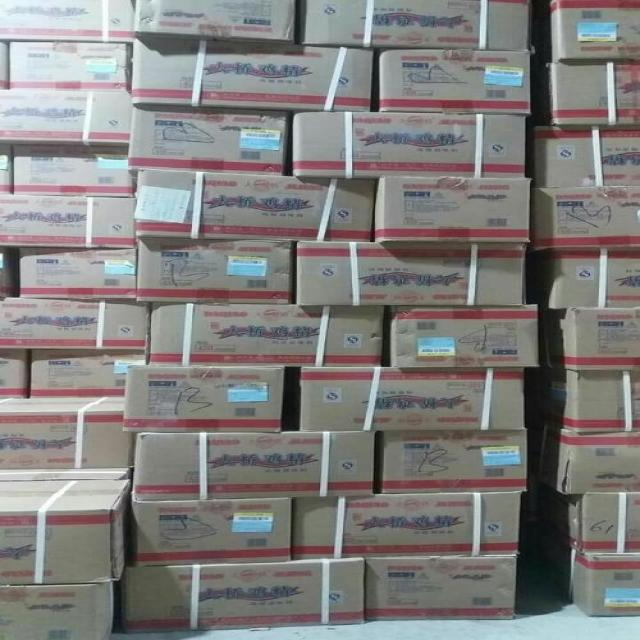box: (119, 556, 366, 634), (131, 37, 374, 112), (134, 168, 376, 241), (132, 430, 375, 500), (292, 110, 526, 179), (293, 492, 521, 559), (150, 302, 384, 367), (296, 240, 527, 305), (301, 367, 524, 431), (0, 479, 129, 585), (131, 492, 292, 566), (127, 104, 289, 176), (298, 0, 532, 49), (122, 365, 284, 431), (375, 175, 532, 243), (137, 237, 294, 304), (365, 555, 517, 621), (0, 397, 137, 469), (379, 50, 531, 114), (379, 429, 529, 493), (389, 305, 539, 368), (0, 297, 152, 350), (536, 422, 640, 495), (0, 89, 132, 146), (0, 194, 138, 248), (132, 0, 297, 45), (530, 186, 640, 251), (0, 580, 114, 640), (12, 145, 138, 198), (534, 125, 639, 187), (543, 369, 640, 432), (19, 247, 138, 298), (0, 0, 137, 44), (9, 42, 132, 91), (547, 307, 640, 371), (548, 61, 640, 125), (31, 350, 150, 398), (550, 0, 640, 62), (545, 251, 639, 309), (564, 547, 639, 616), (566, 492, 640, 552), (0, 468, 132, 481), (0, 348, 32, 398), (0, 40, 9, 90)
